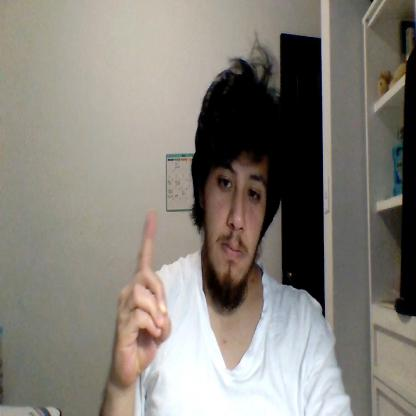D: (110, 211, 172, 388)
